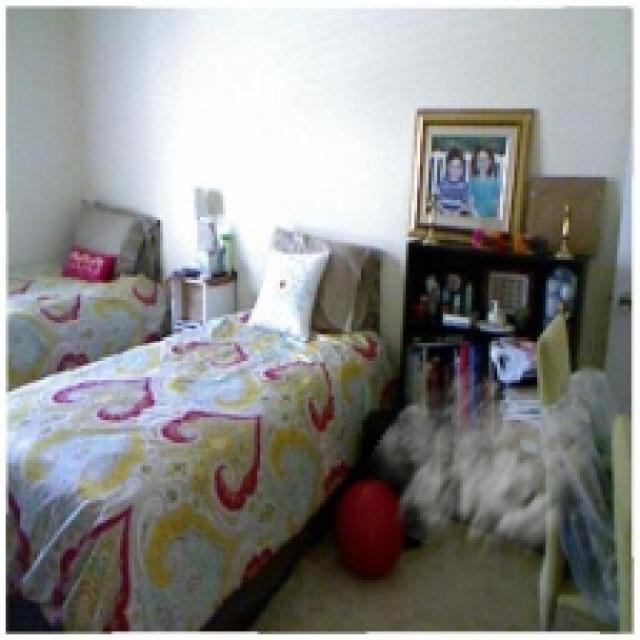Smoke: (363, 362, 600, 588)
